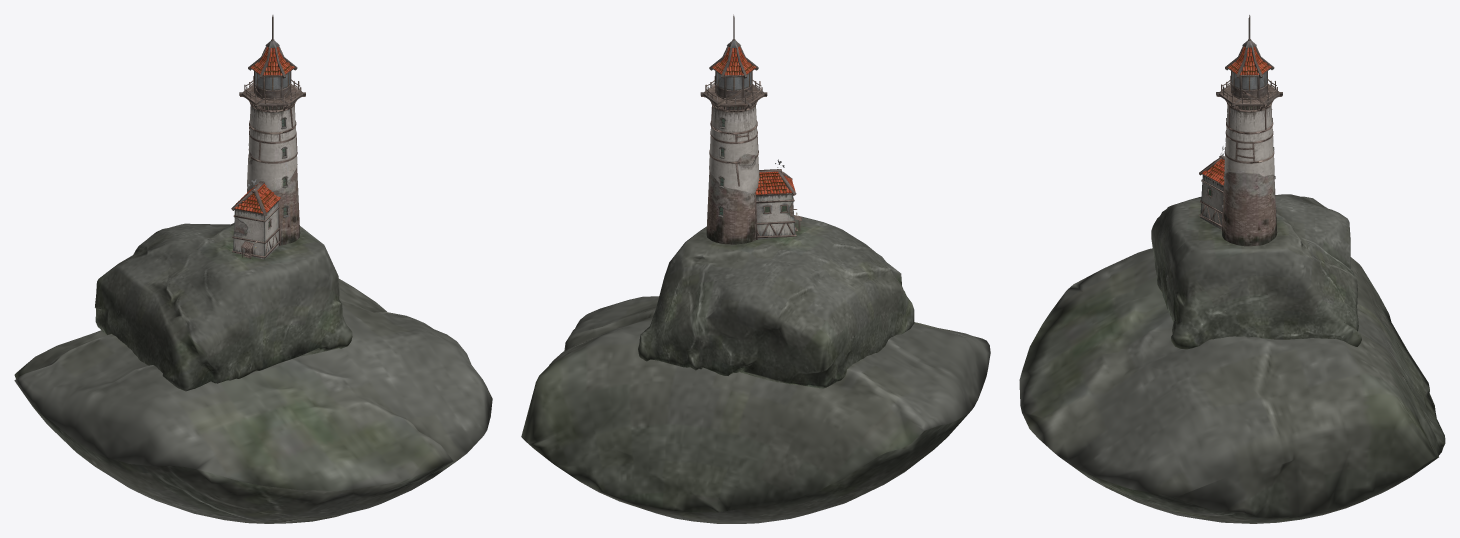
Rendered from lh_small.glb.
The picture shows the model from 3 angles, left to right: view 1: azimuth 30°, elevation 25°; view 2: azimuth 150°, elevation 25°; view 3: azimuth 270°, elevation 25°; orthographic projection.
Parts seen in each view (by area): view 1: Cube.016, Cylinder, Cube.010, Cube.061, Plane.105, Cube.080, Cylinder.007; view 2: Cube.016, Cylinder, Cube.010, Cube.061, Plane.105, Cube.080, Cylinder.007; view 3: Cube.016, Cylinder, Cube.010, Plane.105, Cylinder.007, Cube.061, Cube.080.
Boxes of the visible parts, bbox=[...] form: Cube.016: bbox=[14, 223, 492, 523]; Cylinder: bbox=[247, 48, 300, 245]; Cube.010: bbox=[239, 15, 305, 107]; Cube.061: bbox=[233, 202, 278, 259]; Plane.105: bbox=[234, 46, 294, 213]; Cube.080: bbox=[231, 181, 280, 259]; Cylinder.007: bbox=[240, 95, 305, 163]; Cube.016: bbox=[521, 215, 990, 523]; Cylinder: bbox=[706, 48, 759, 244]; Cube.010: bbox=[700, 14, 767, 107]; Cube.061: bbox=[755, 176, 795, 239]; Plane.105: bbox=[712, 46, 795, 194]; Cube.080: bbox=[754, 169, 801, 239]; Cylinder.007: bbox=[701, 95, 766, 186]; Cube.016: bbox=[1019, 194, 1445, 523]; Cylinder: bbox=[1222, 48, 1277, 246]; Cube.010: bbox=[1216, 15, 1282, 107]; Plane.105: bbox=[1202, 46, 1271, 185]; Cylinder.007: bbox=[1216, 95, 1282, 163]; Cube.061: bbox=[1200, 173, 1223, 229]; Cube.080: bbox=[1199, 155, 1224, 230].
Bounding box in the file's own units: 1314 × 1491 × 1194.
Materials: 10 (10 with a texture image).
